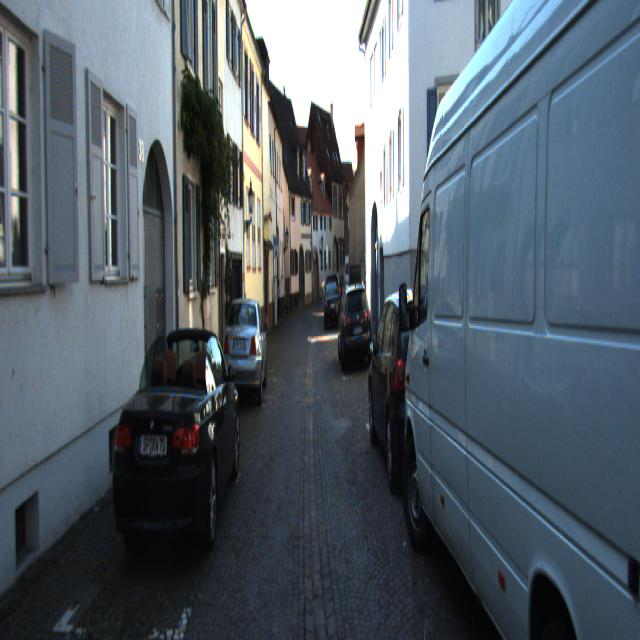Car: (105, 321, 242, 581), (366, 280, 467, 520), (220, 293, 268, 407), (336, 283, 374, 374), (323, 284, 340, 329)
Van: (398, 0, 621, 638), (344, 254, 364, 299)
